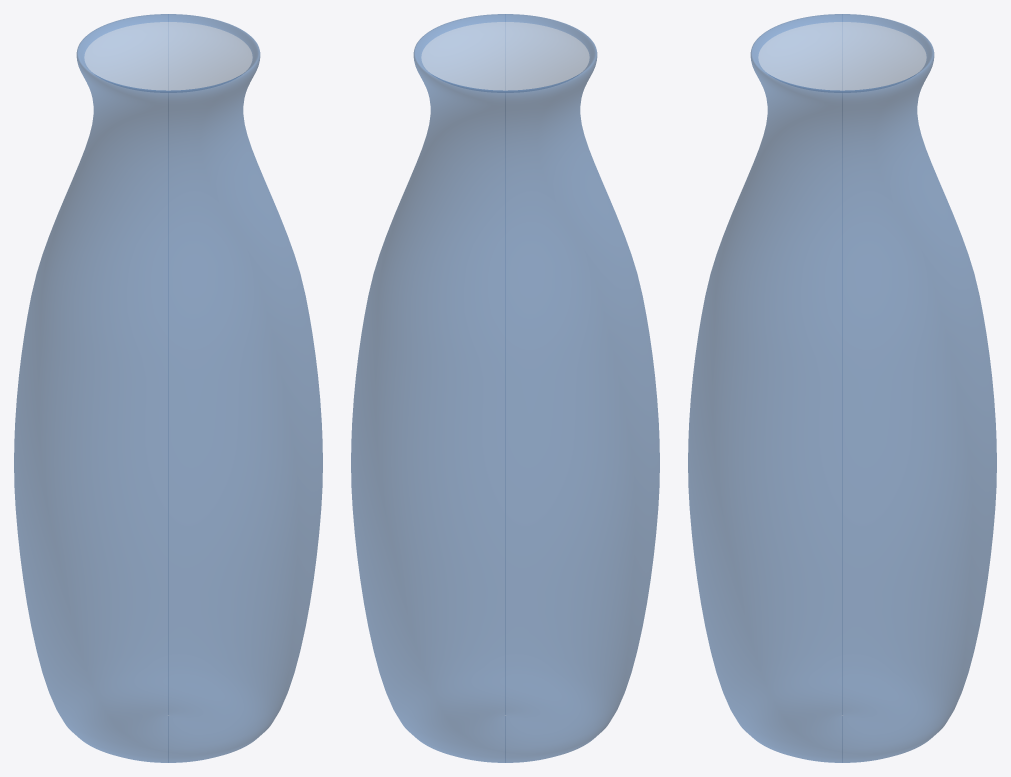
The model's file is cr-glass-vase.glb.
3 views of the same model, side by side, from view 1: azimuth 30°, elevation 25°; view 2: azimuth 150°, elevation 25°; view 3: azimuth 270°, elevation 25° (orthographic).
Parts seen in each view (by area): view 1: cr_glass_vase; view 2: cr_glass_vase; view 3: cr_glass_vase.
Part boxes in pixels (bbox=[...]): cr_glass_vase: bbox=[14, 14, 322, 762]; cr_glass_vase: bbox=[351, 14, 659, 762]; cr_glass_vase: bbox=[688, 14, 996, 762].
Bounding box in the file's own units: 0.1243 × 0.3 × 0.1243.
